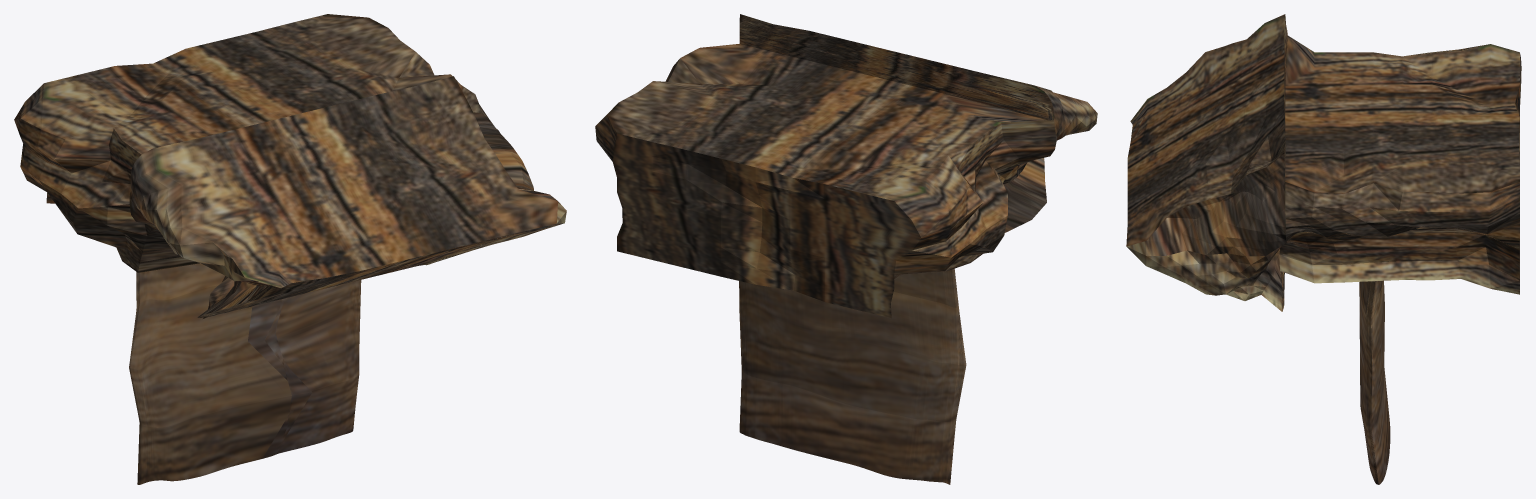
Rendered from panneau.obj.
3 views of the same model, side by side, from view 1: azimuth 30°, elevation 25°; view 2: azimuth 150°, elevation 25°; view 3: azimuth 270°, elevation 25° (orthographic). The views are drawn at different scales.
Parts seen in each view (by area): view 1: Fleche_Cube.001; view 2: Fleche_Cube.001; view 3: Fleche_Cube.001.
Part boxes in pixels (x1,y1,x2,y2): Fleche_Cube.001: [14, 14, 566, 484]; Fleche_Cube.001: [595, 14, 1097, 484]; Fleche_Cube.001: [1126, 14, 1521, 484].
Bounding box in the file's own units: 1 × 1 × 1.
